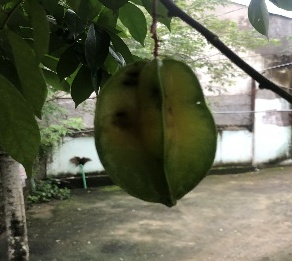Khe: (90, 56, 219, 208)
